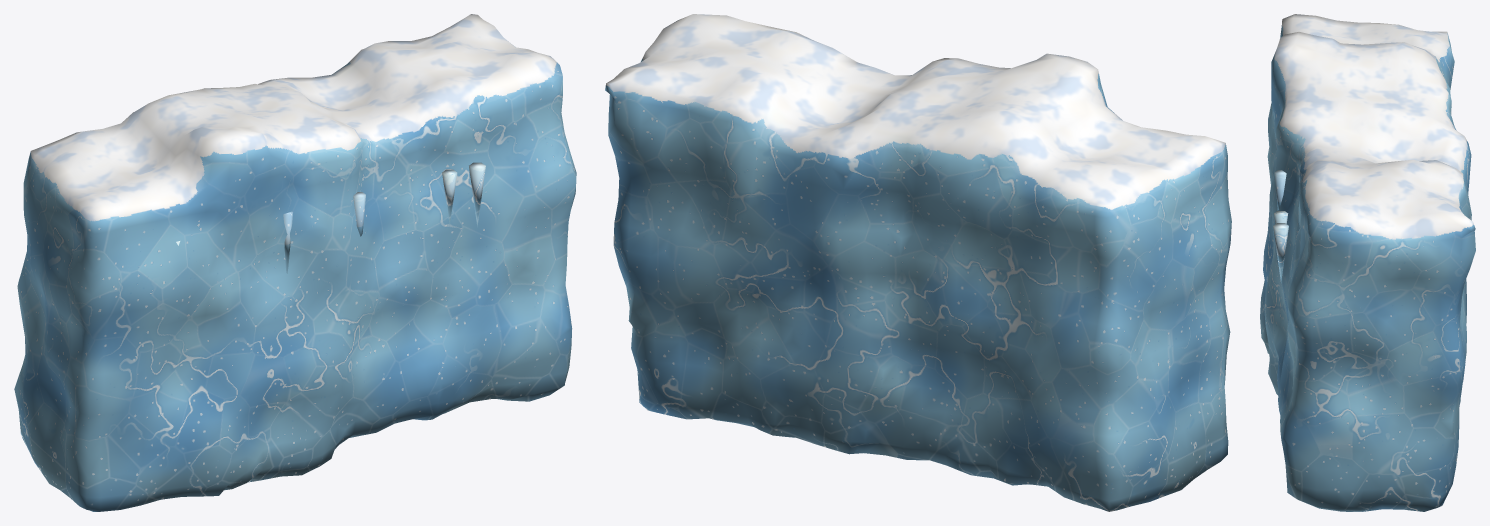
The model's file is ice_wall_a.glb.
3 views of the same model, side by side, from view 1: azimuth 30°, elevation 25°; view 2: azimuth 150°, elevation 25°; view 3: azimuth 270°, elevation 25° (orthographic). The views are drawn at different scales.
Visible parts, largest first — view 1: IceWall, ic.005; view 2: IceWall; view 3: IceWall, ic.005, ic.003.
Boxes of the visible parts, x1,y1,x2,y2 form: IceWall: (14,14,576,511); ic.005: (469,162,485,227); IceWall: (605,14,1231,511); IceWall: (1260,14,1475,511); ic.005: (1273,223,1288,282); ic.003: (1274,170,1286,210).
Size of the model in its own units: 3.88 by 2.6 by 1.54.
1 material, 1 textured.
